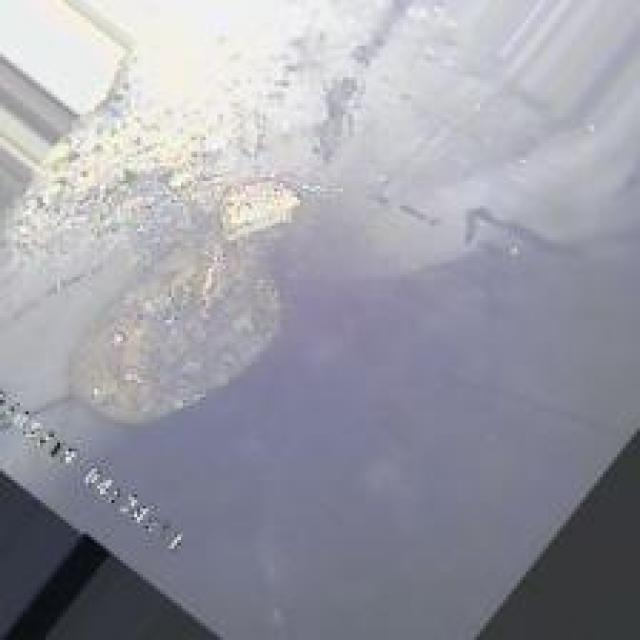stone: (63, 226, 291, 423)
